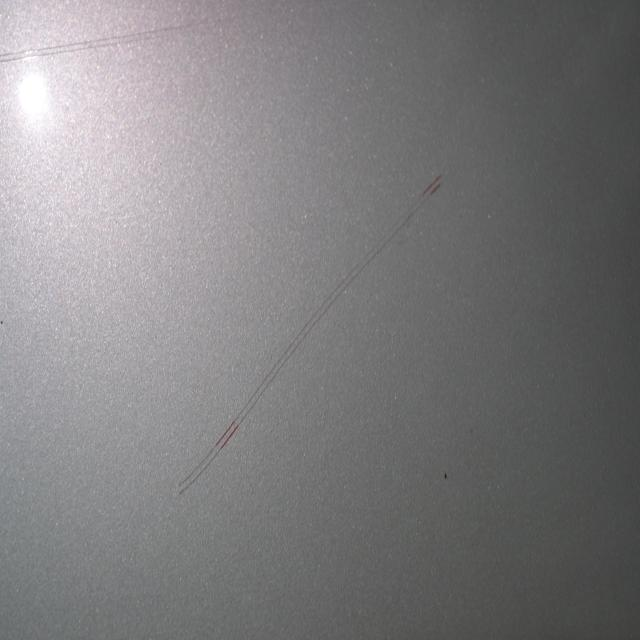dirt: (438, 466, 450, 482)
scratch: (173, 164, 444, 502), (2, 14, 197, 69)
